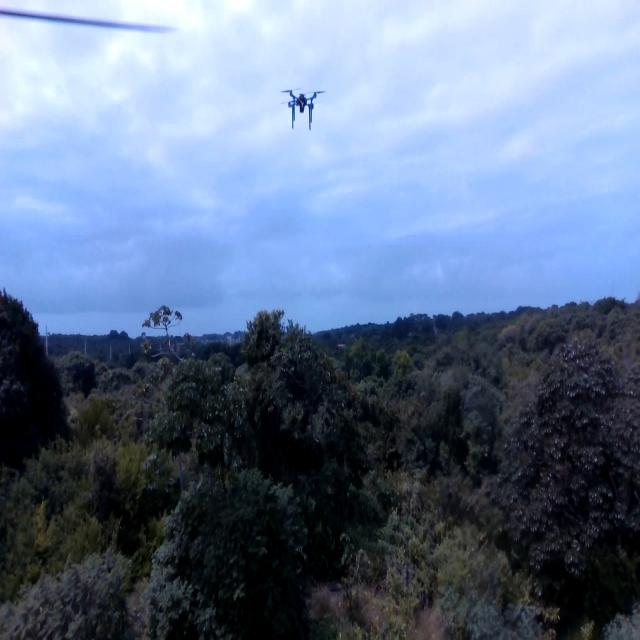-uav-: (277, 74, 331, 148)
